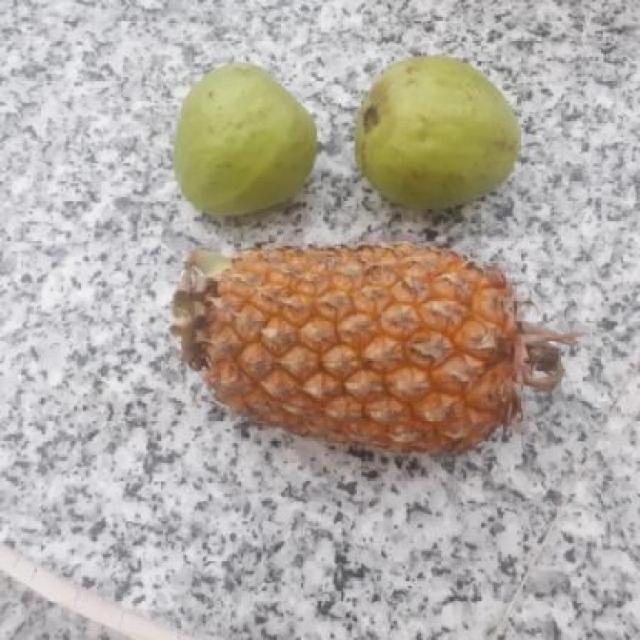guava: (348, 60, 518, 208), (170, 66, 318, 212)
pineapple: (172, 240, 539, 452)
